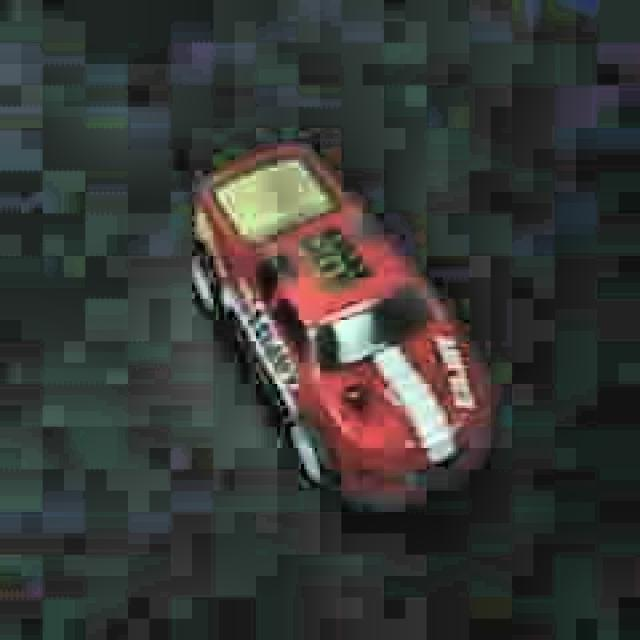car: (187, 138, 497, 508)
